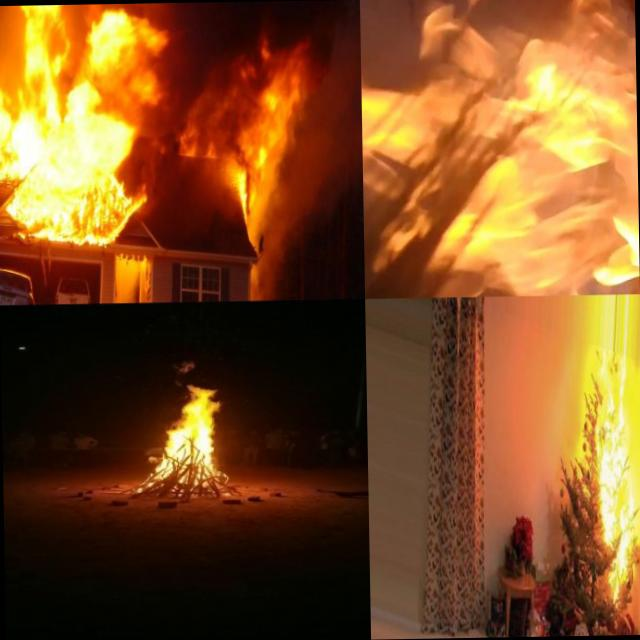fire: (359, 0, 639, 298), (0, 14, 169, 249), (589, 326, 640, 604), (143, 374, 227, 486), (232, 25, 310, 138), (234, 136, 270, 213), (82, 3, 122, 15)
smoke: (306, 19, 358, 137), (268, 140, 346, 214), (248, 211, 284, 301), (126, 2, 184, 14)
